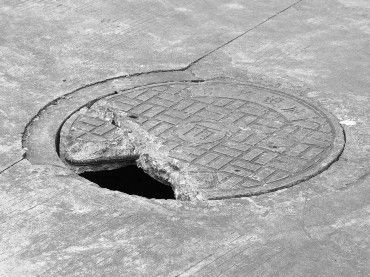well: (13, 75, 347, 211)
